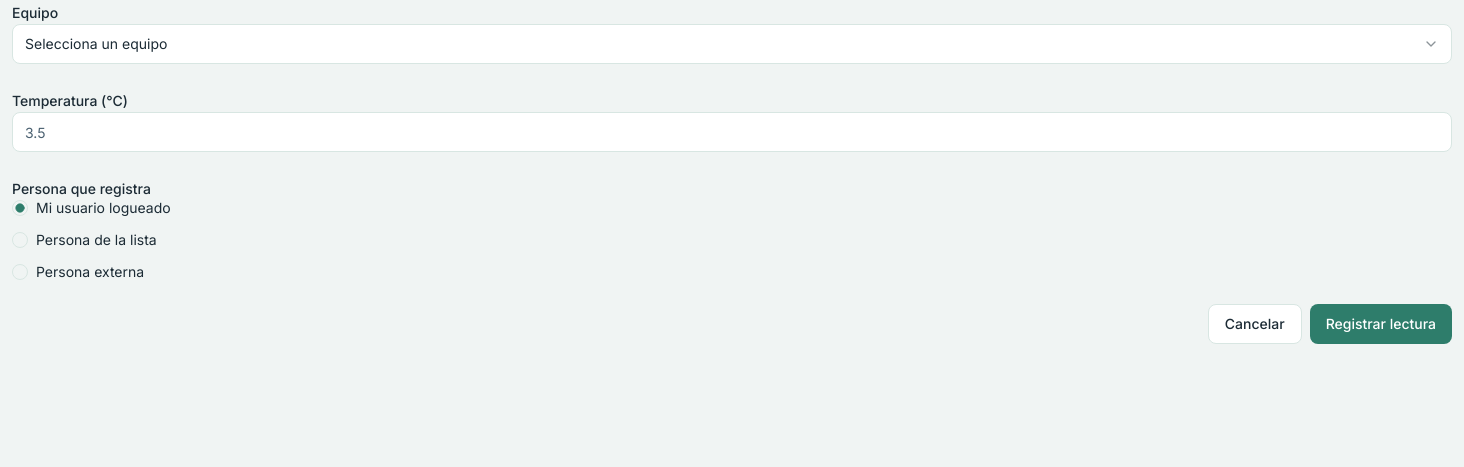
Test: ReadingForm · validation › shows validation error when temperature is below -100
The width and height of the screenshot is (1464, 467).
Click the dropdown. click: (96, 44)
box: 12,24 -> 1452,64
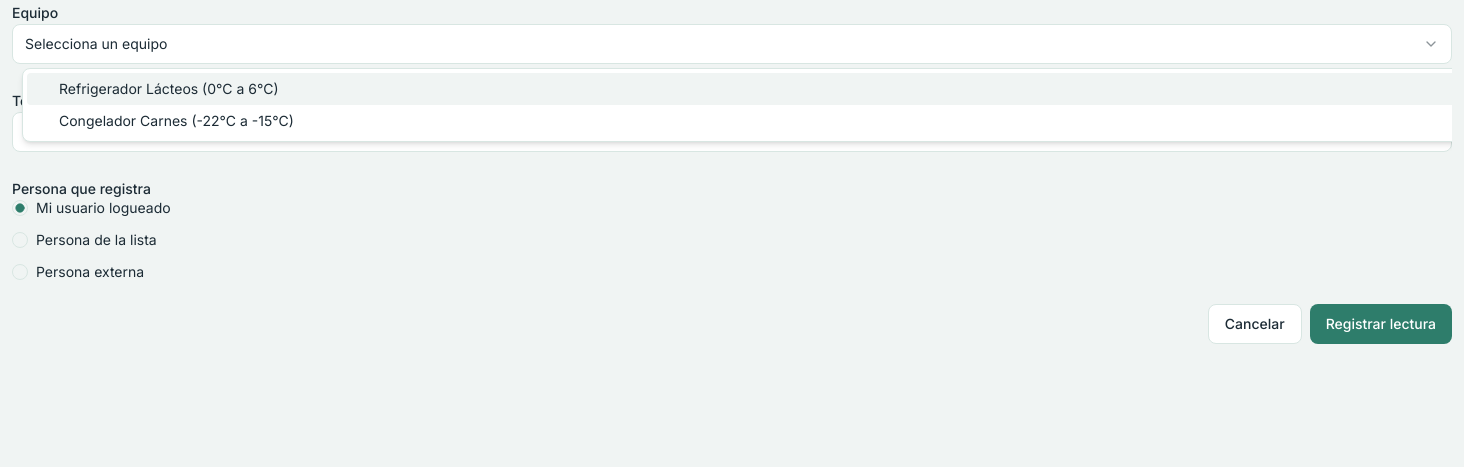
Click the option "Refrigerador Lácteos (0°C a 6°C)". click: (129, 88)
box: 27,73 -> 1452,105
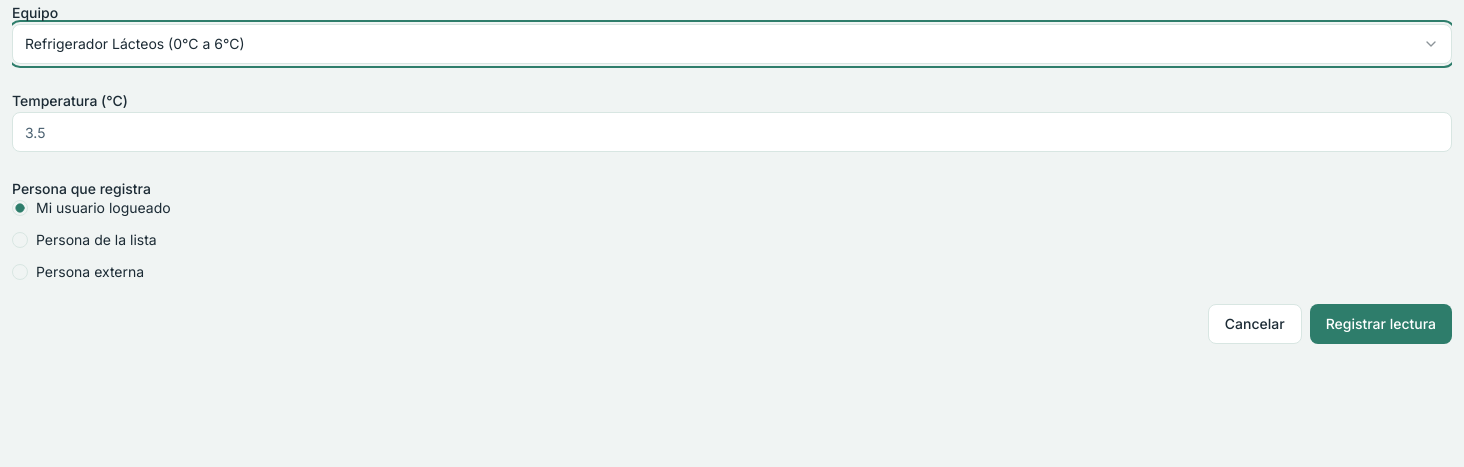
Type "-150" into the number field labelled "Temperatura (°C)". click: (732, 132)
box: 12,112 -> 1452,152
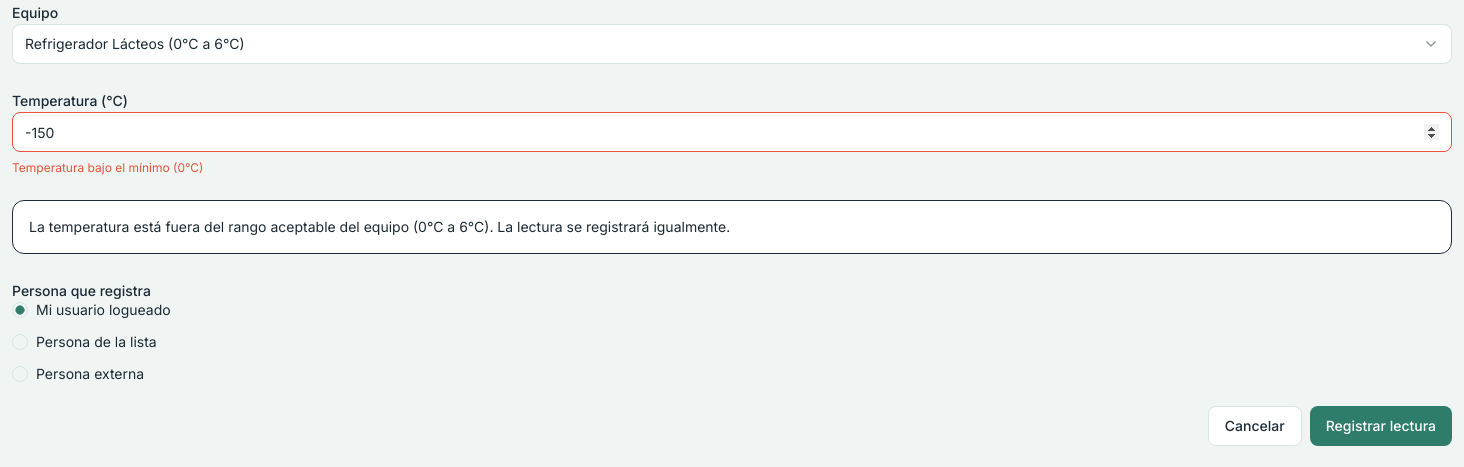
Click the button "Registrar lectura". click: (1381, 426)
box: 1310,406 -> 1452,446
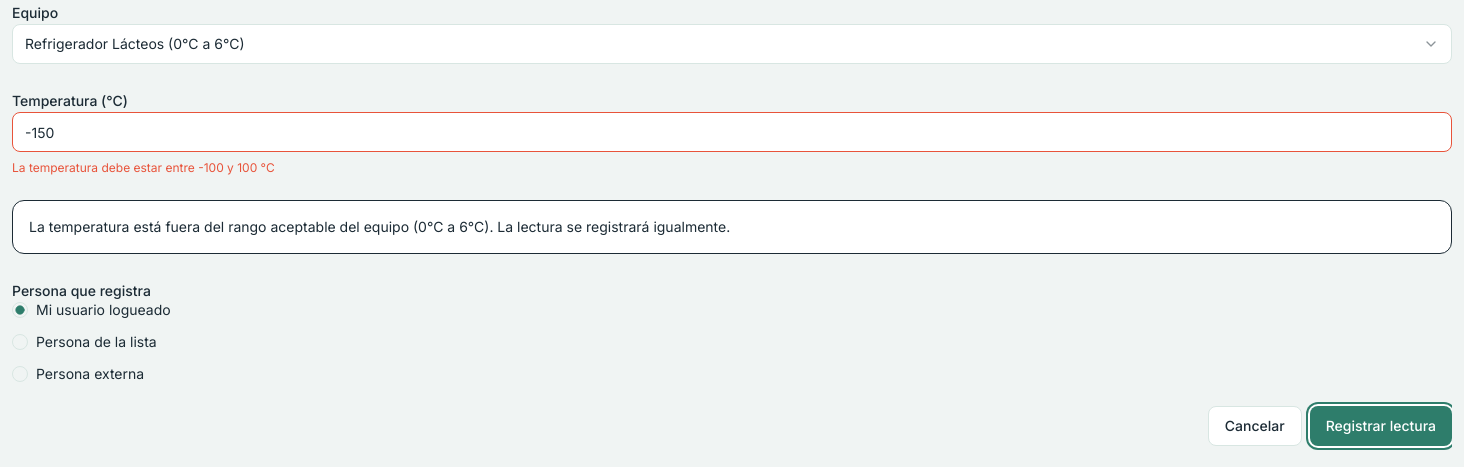
Now the text "La temperatura debe estar entre -100 y 100 °C" is shown, box 12,160 -> 275,175
